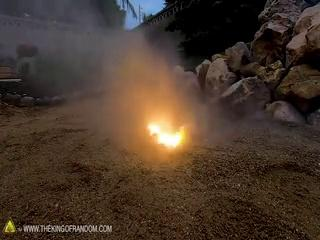Fire: (144, 116, 188, 151)
